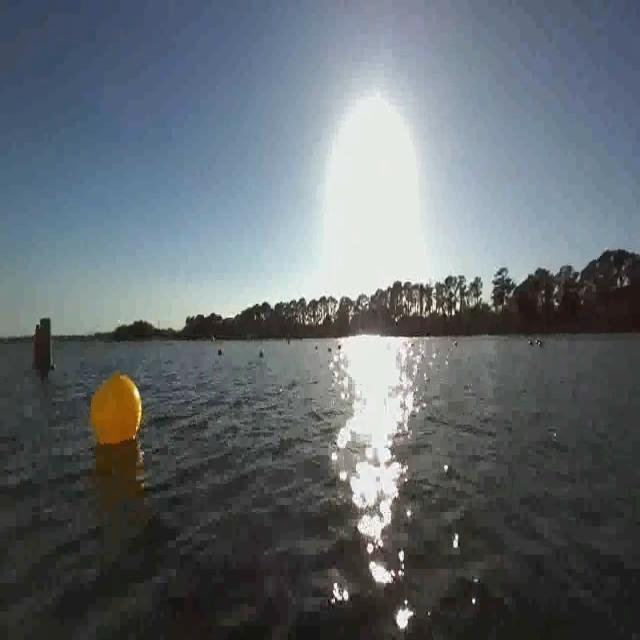green-column-buoy: (41, 318, 56, 374)
red-column-buoy: (32, 318, 42, 372)
yellow-buoy: (90, 369, 143, 446)
